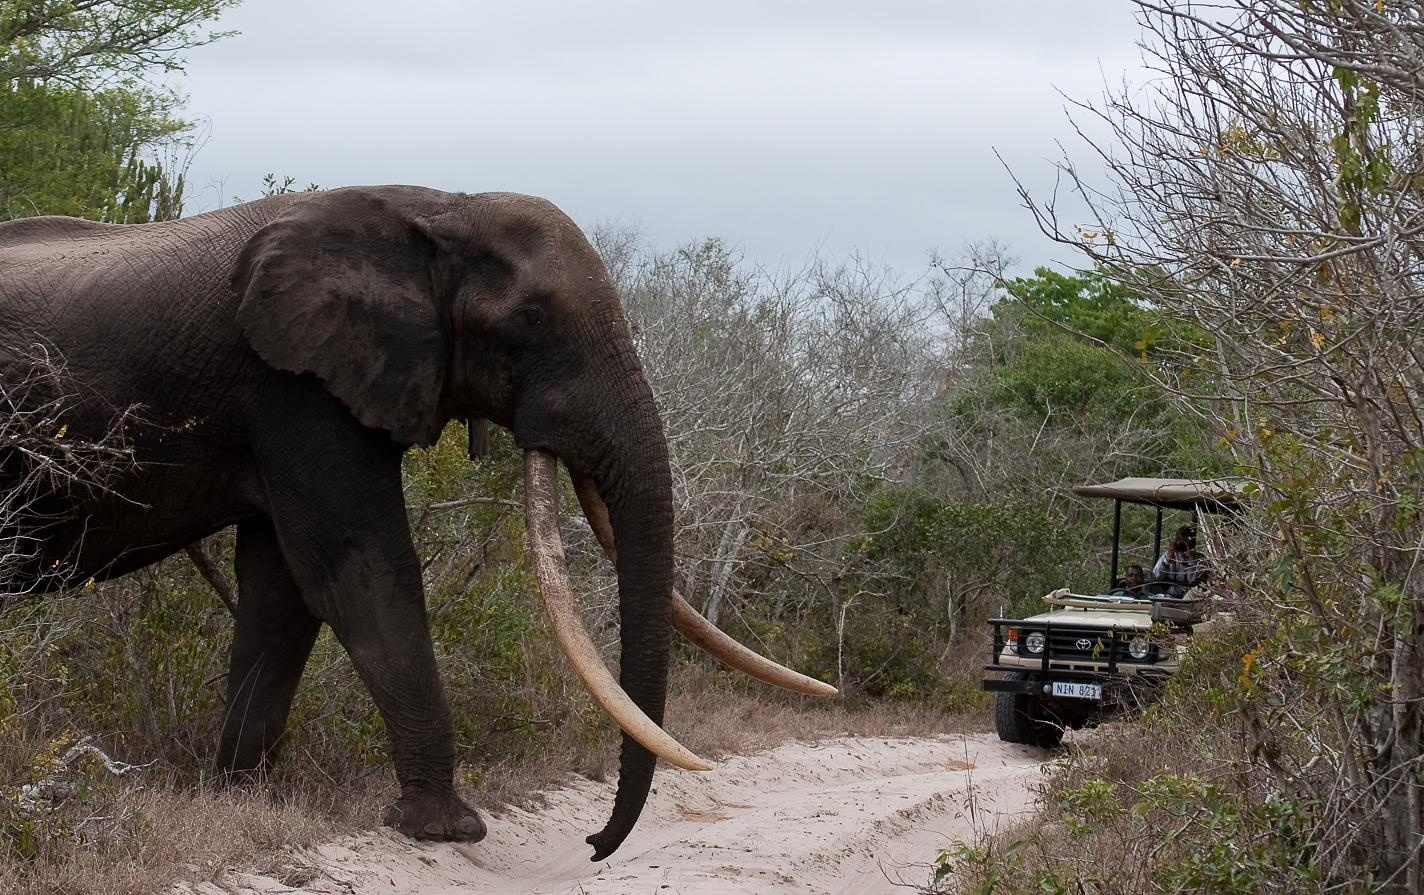elephant: (8, 192, 841, 849)
